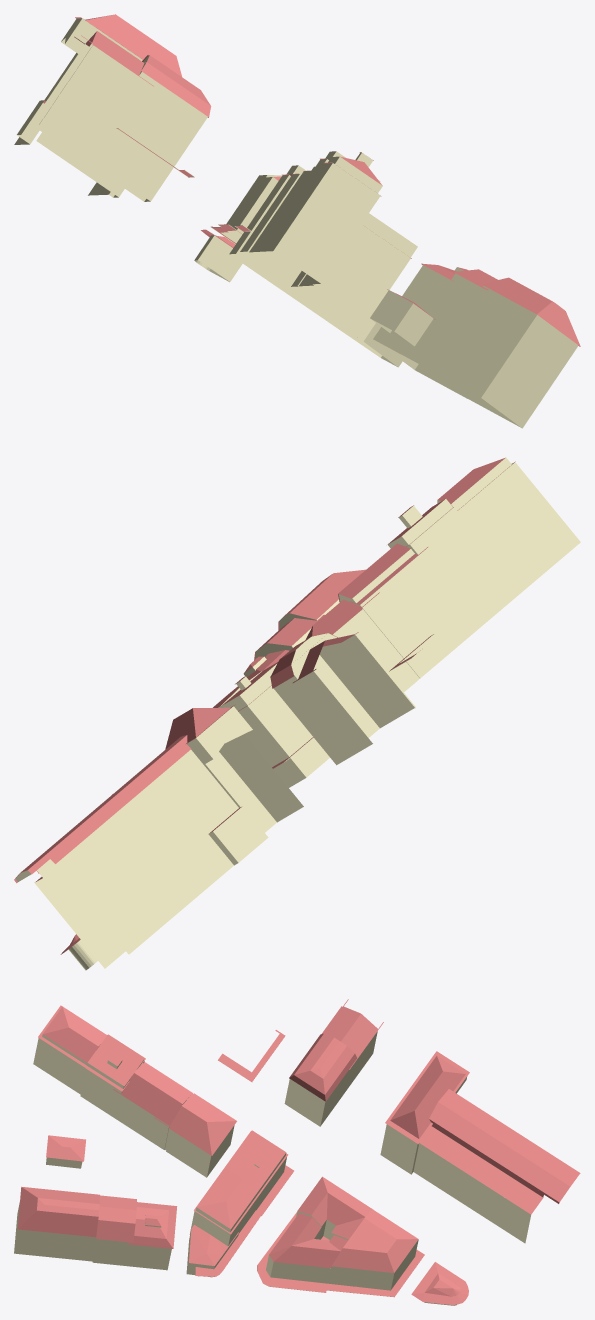
The model's file is tile_065.glb.
3 renders of one model, top to bottom at view 1: azimuth 30°, elevation 25°; view 2: azimuth 150°, elevation 25°; view 3: azimuth 270°, elevation 25°, orthographic. The views are drawn at different scales.
Visible parts, largest first — view 1: Batched_Building_ID_605256F4-C5AB-4F6B-B6B8-B34952760915, Batched_Building_ID_8DFFA042-48AA-4A4A-BB35-3054D144B1A8; view 2: Batched_Building_ID_605256F4-C5AB-4F6B-B6B8-B34952760915, Batched_Building_ID_8DFFA042-48AA-4A4A-BB35-3054D144B1A8; view 3: Batched_Building_ID_8DFFA042-48AA-4A4A-BB35-3054D144B1A8, Batched_Building_ID_605256F4-C5AB-4F6B-B6B8-B34952760915.
Part boxes in pixels (x1=…): Batched_Building_ID_605256F4-C5AB-4F6B-B6B8-B34952760915: x1=14, y1=18, x2=578, y2=428; Batched_Building_ID_8DFFA042-48AA-4A4A-BB35-3054D144B1A8: x1=43, y1=14, x2=580, y2=346; Batched_Building_ID_605256F4-C5AB-4F6B-B6B8-B34952760915: x1=15, y1=457, x2=580, y2=970; Batched_Building_ID_8DFFA042-48AA-4A4A-BB35-3054D144B1A8: x1=14, y1=457, x2=515, y2=954; Batched_Building_ID_8DFFA042-48AA-4A4A-BB35-3054D144B1A8: x1=17, y1=999, x2=580, y2=1304; Batched_Building_ID_605256F4-C5AB-4F6B-B6B8-B34952760915: x1=14, y1=1031, x2=543, y2=1305.
Size of the model in its own units: 88.23 by 95.55 by 198.
